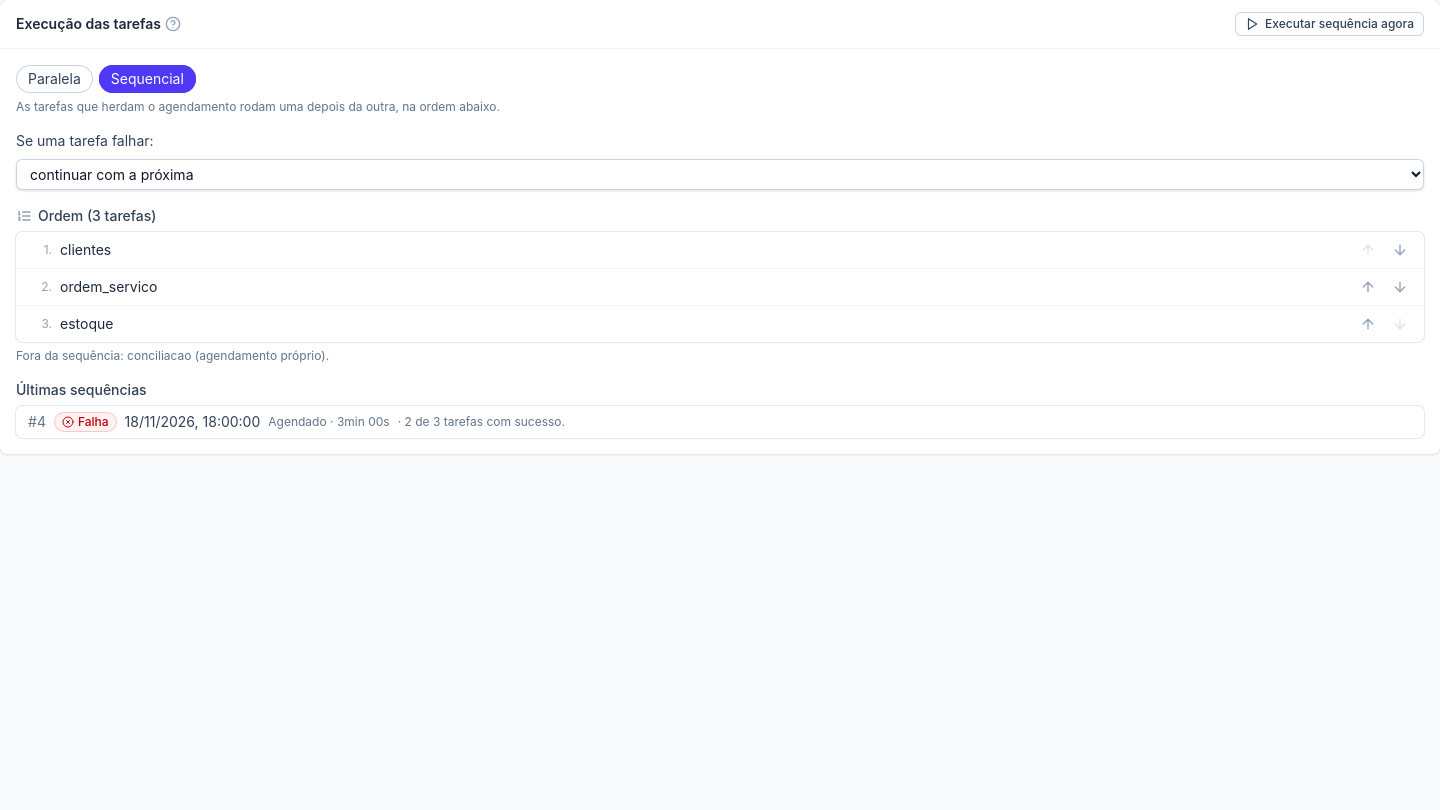
Test: ExecutionCard › shows the order, reorders and starts the sequence
Expected: the links read "clientes", "ordem_servico", "estoque", in this order, left=60, top=241, right=111, bottom=258; left=60, top=278, right=158, bottom=295; left=60, top=315, right=113, bottom=332
Expected: the text with test id "sequence-outside" shows "conciliacao (agendamento próprio)", left=127, top=348, right=326, bottom=363
Click the button named "Mover estoque para cima" at (1368, 324), box left=1356, top=312, right=1380, bottom=336
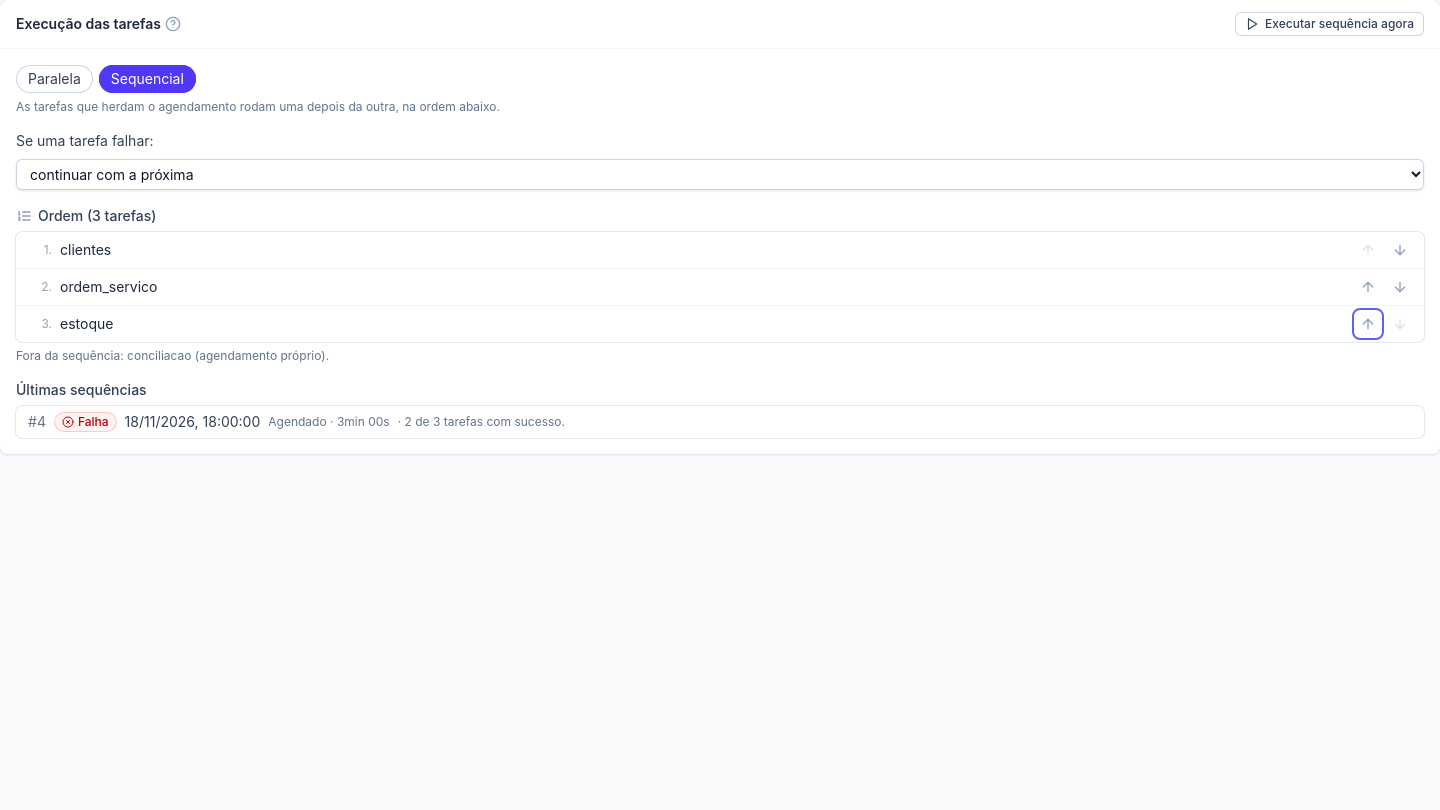
Expected: the list with test id "sequence-history" shows "2 de 3 tarefas com sucesso.", left=404, top=414, right=565, bottom=429
Expected: the list with test id "sequence-history" shows "3min 00s", left=337, top=414, right=390, bottom=429
Click the button "Executar sequência agora" at (1330, 24), box left=1235, top=12, right=1424, bottom=36
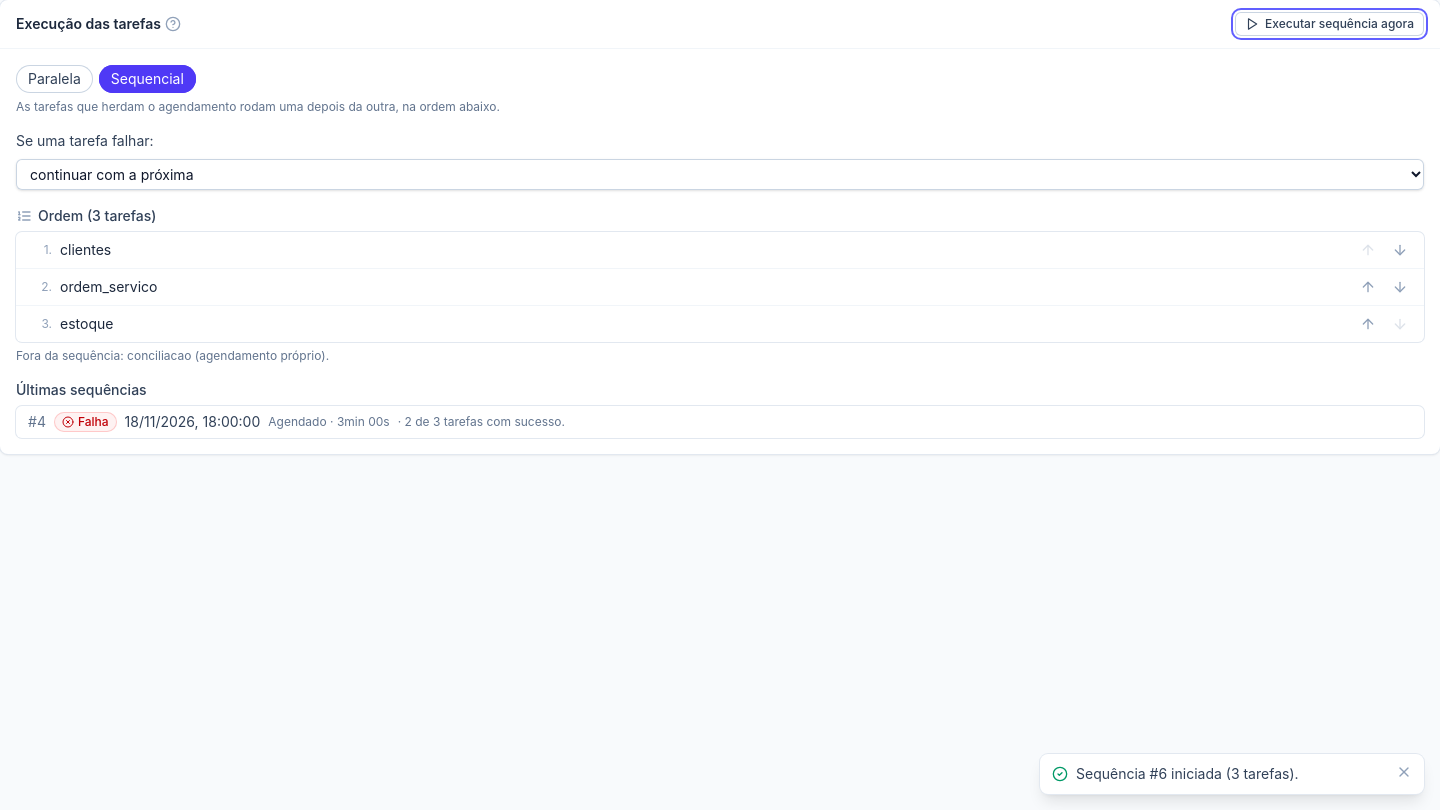
Result: the text "Sequência #6 iniciada (3 tarefas)." is shown at left=1076, top=765, right=1298, bottom=782
